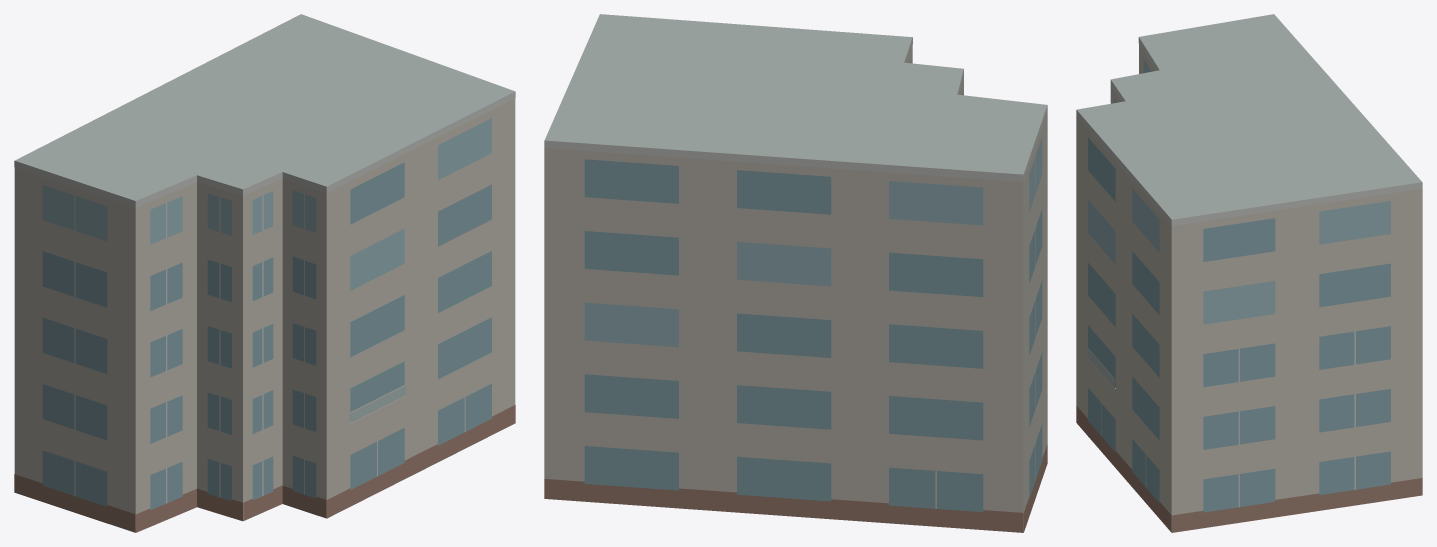
Rendered from survey-upis-33036806.glb.
3 renders of one model, left to right at view 1: azimuth 30°, elevation 25°; view 2: azimuth 150°, elevation 25°; view 3: azimuth 270°, elevation 25°, orthographic. The views are drawn at different scales.
Parts seen in each view (by area): view 1: survey-upis-33036806.tmp; view 2: survey-upis-33036806.tmp; view 3: survey-upis-33036806.tmp.
Boxes of the visible parts, left/top/right/bottom form: survey-upis-33036806.tmp: left=14, top=14, right=515, bottom=532; survey-upis-33036806.tmp: left=544, top=14, right=1047, bottom=532; survey-upis-33036806.tmp: left=1076, top=14, right=1422, bottom=532.
Size of the model in its own units: 16.84 by 11.95 by 11.98.
